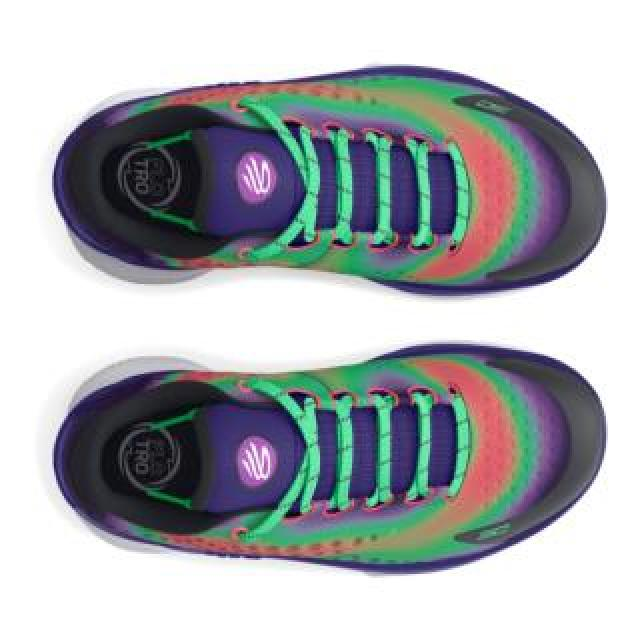shoe: (50, 337, 606, 577), (52, 63, 608, 299)
